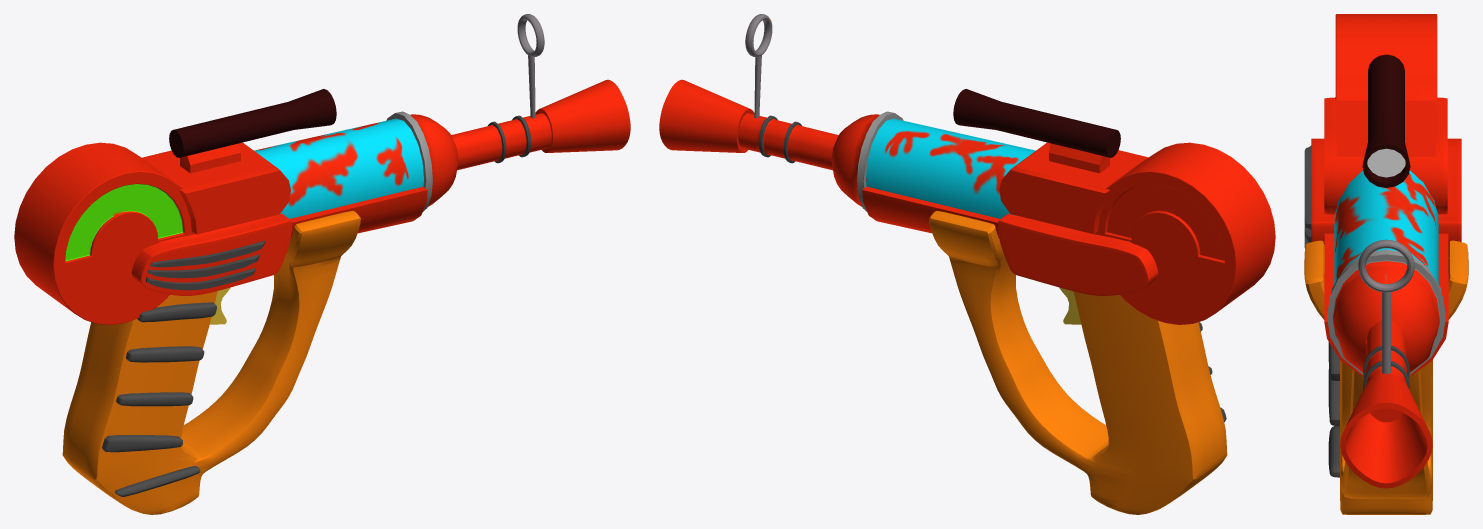
Rendered from raygun.obj.
3 views of the same model, side by side, from view 1: azimuth 30°, elevation 25°; view 2: azimuth 150°, elevation 25°; view 3: azimuth 270°, elevation 25° (orthographic). The views are drawn at different scales.
Visible parts, largest first — view 1: Cylinder.004; view 2: Cylinder.004; view 3: Cylinder.004.
Part boxes in pixels (box(x1,y1,x2,y2)): Cylinder.004: box(14, 14, 630, 514); Cylinder.004: box(659, 14, 1275, 514); Cylinder.004: box(1304, 14, 1468, 514).
Bounding box in the file's own units: 16.58 × 10.73 × 3.16.
